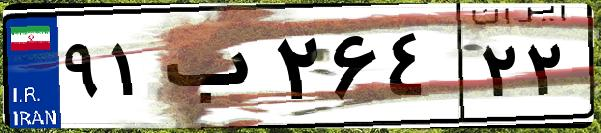1: (110, 28, 158, 98)
2: (270, 28, 330, 110), (475, 38, 525, 113), (525, 38, 570, 115)
4: (385, 28, 445, 110)
6: (330, 28, 385, 110)
9: (57, 26, 110, 100)
ب: (158, 20, 270, 120)
